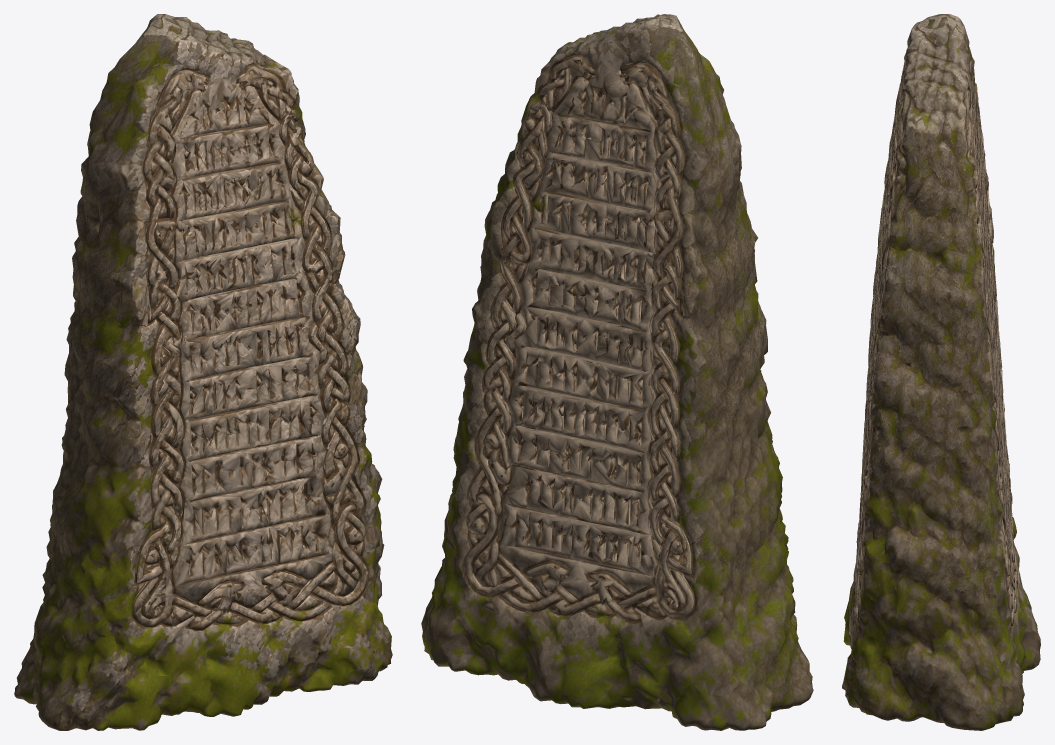
Rendered from WatchStoneTall.fbx.
3 renders of one model, left to right at view 1: azimuth 30°, elevation 25°; view 2: azimuth 150°, elevation 25°; view 3: azimuth 270°, elevation 25°, orthographic. The views are drawn at different scales.
Visible parts, largest first — view 1: Mesh_0; view 2: Mesh_0; view 3: Mesh_0.
Boxes of the visible parts, bbox=[...] form: Mesh_0: bbox=[14, 14, 392, 730]; Mesh_0: bbox=[421, 14, 813, 730]; Mesh_0: bbox=[842, 14, 1040, 730].
Size of the model in its own units: 107 by 190 by 55.45.
Materials: 1 (1 with a texture image).
